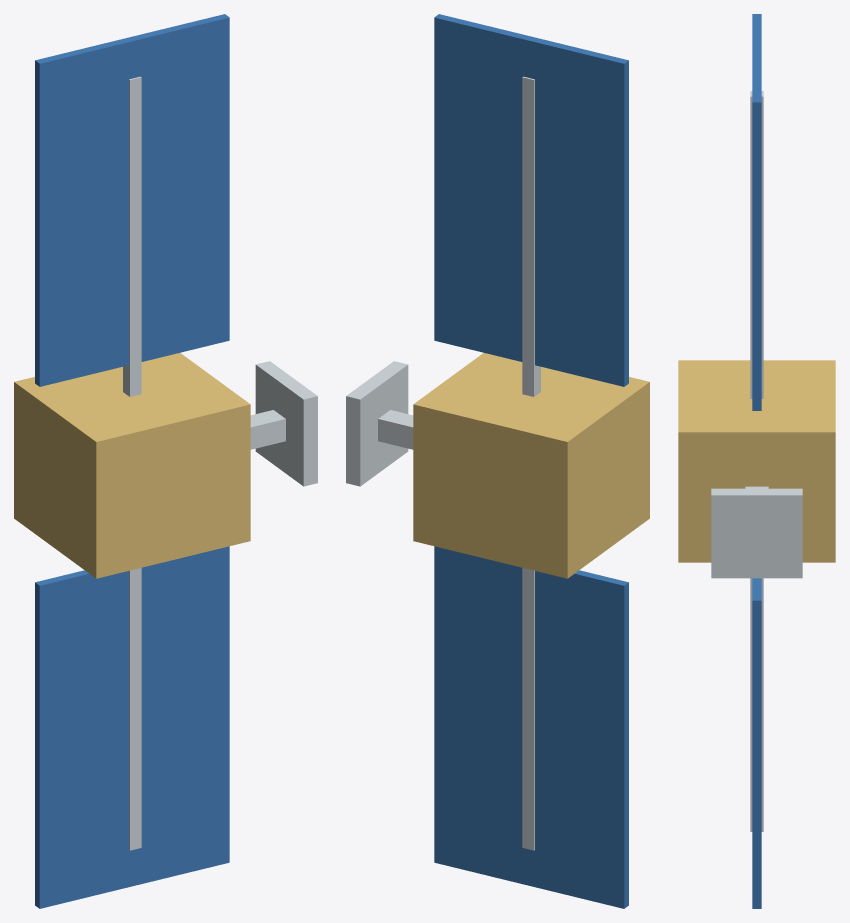
Rendered from satellite.glb.
3 views of the same model, side by side, from view 1: azimuth 30°, elevation 25°; view 2: azimuth 150°, elevation 25°; view 3: azimuth 270°, elevation 25° (orthographic). The views are drawn at different scales.
Bounding box in the file's own units: 2.16 × 6.8 × 1.2.
